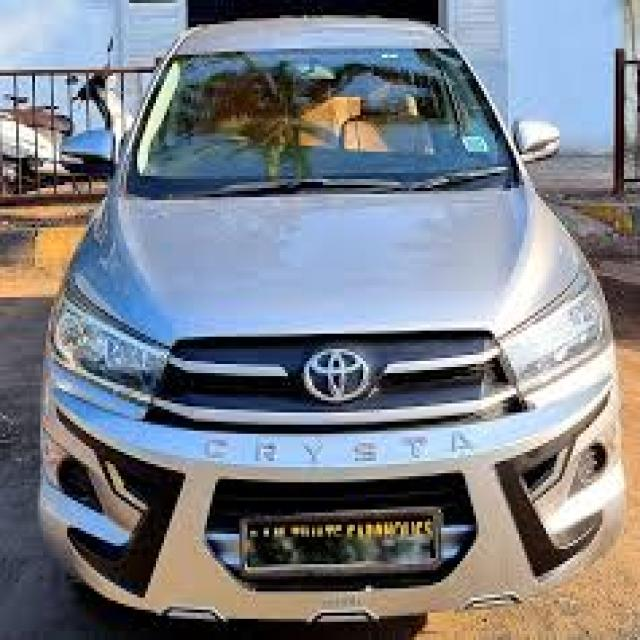light_vehicle: (39, 17, 626, 623)
